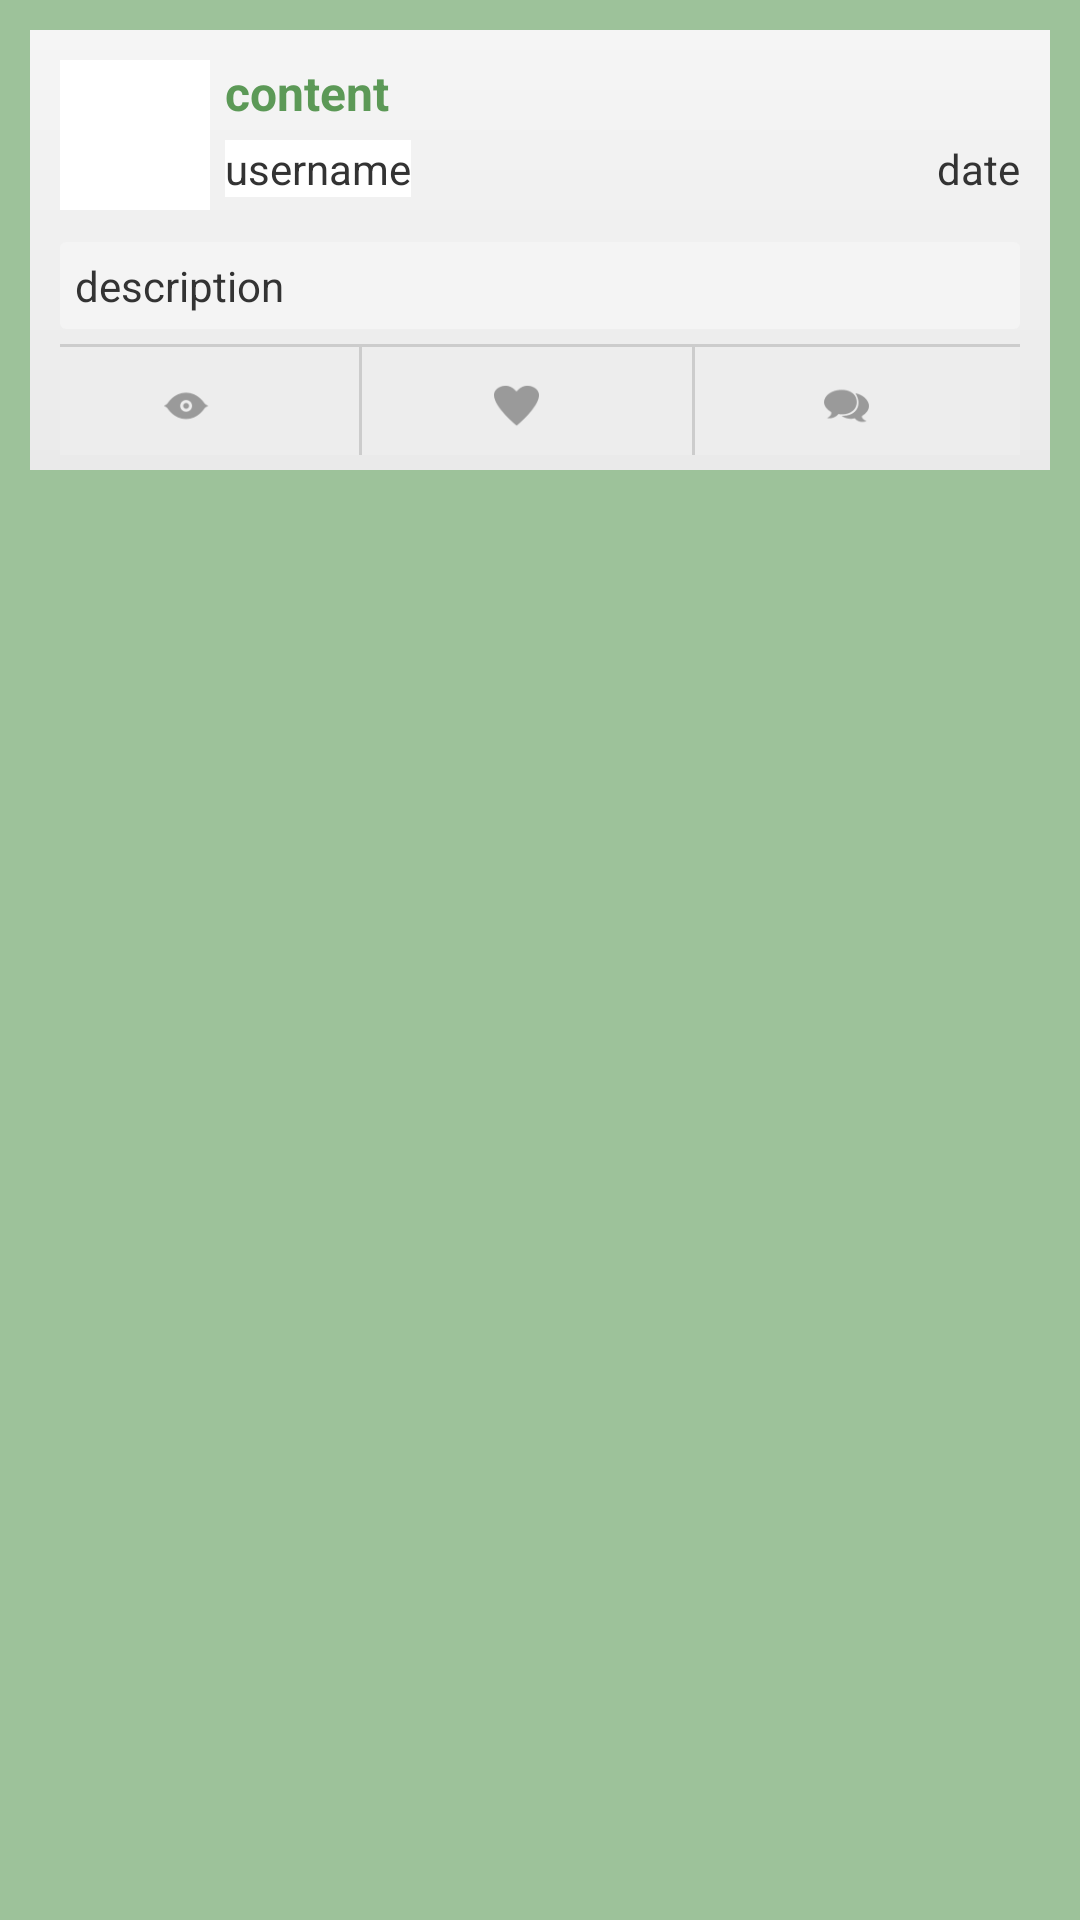

Point at icon controls on the screen. Image size 1080px x 1920px, points as point (x, y).
post comments: point (846, 406)
post likes: point (516, 406)
post views: point (186, 405)
